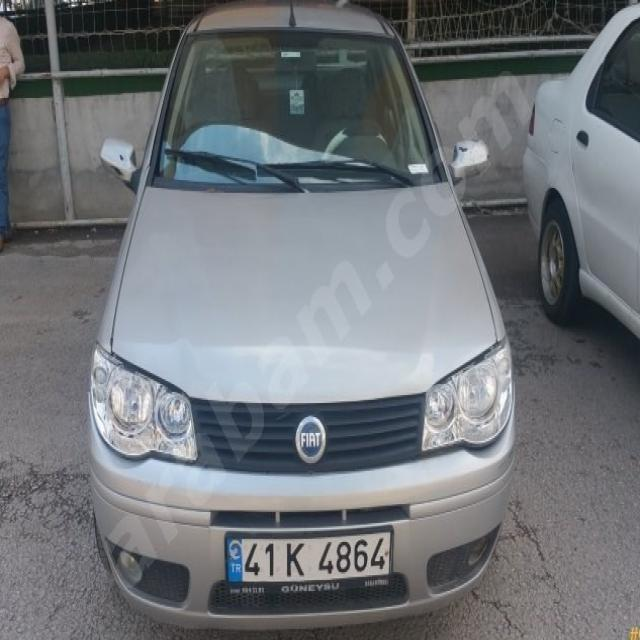license_plate: (225, 531, 392, 583)
